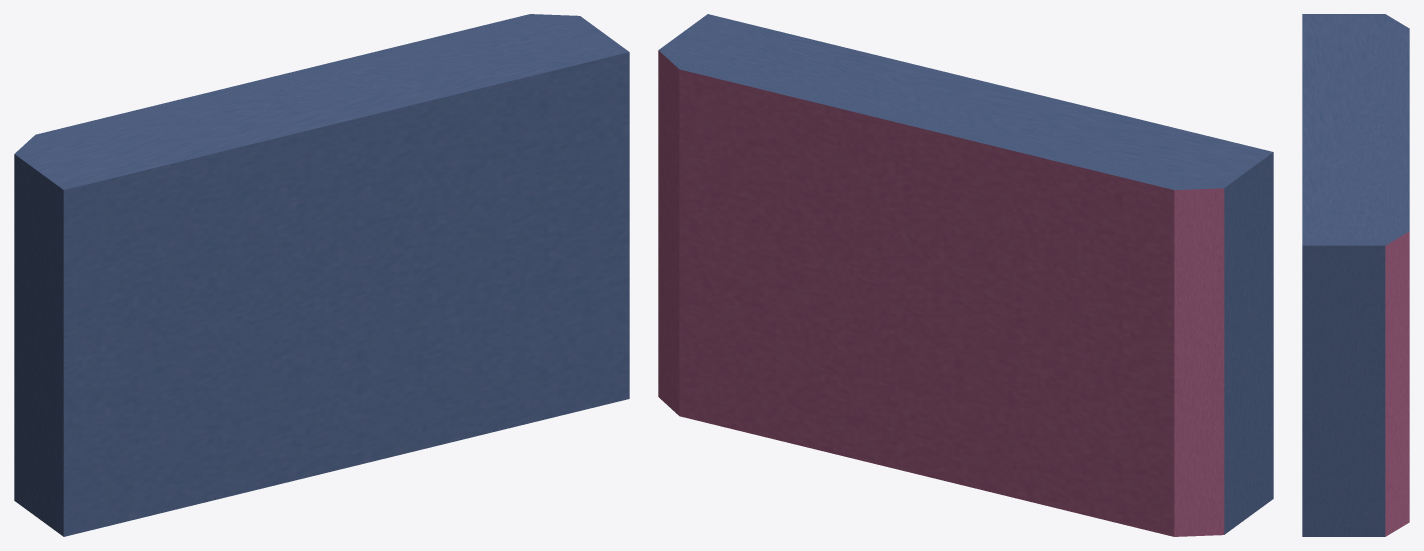
File: de_pink_2.fbx
3 views of the same model, side by side, from view 1: azimuth 30°, elevation 25°; view 2: azimuth 150°, elevation 25°; view 3: azimuth 270°, elevation 25° (orthographic). The views are drawn at different scales.
Parts seen in each view (by area): view 1: Cube.317; view 2: Cube.317; view 3: Cube.317.
Boxes of the visible parts, <box> form: Cube.317: <box>14,14,629,536</box>; Cube.317: <box>658,14,1273,536</box>; Cube.317: <box>1302,14,1409,536</box>.
Bounding box in the file's own units: 529 × 310 × 103.
